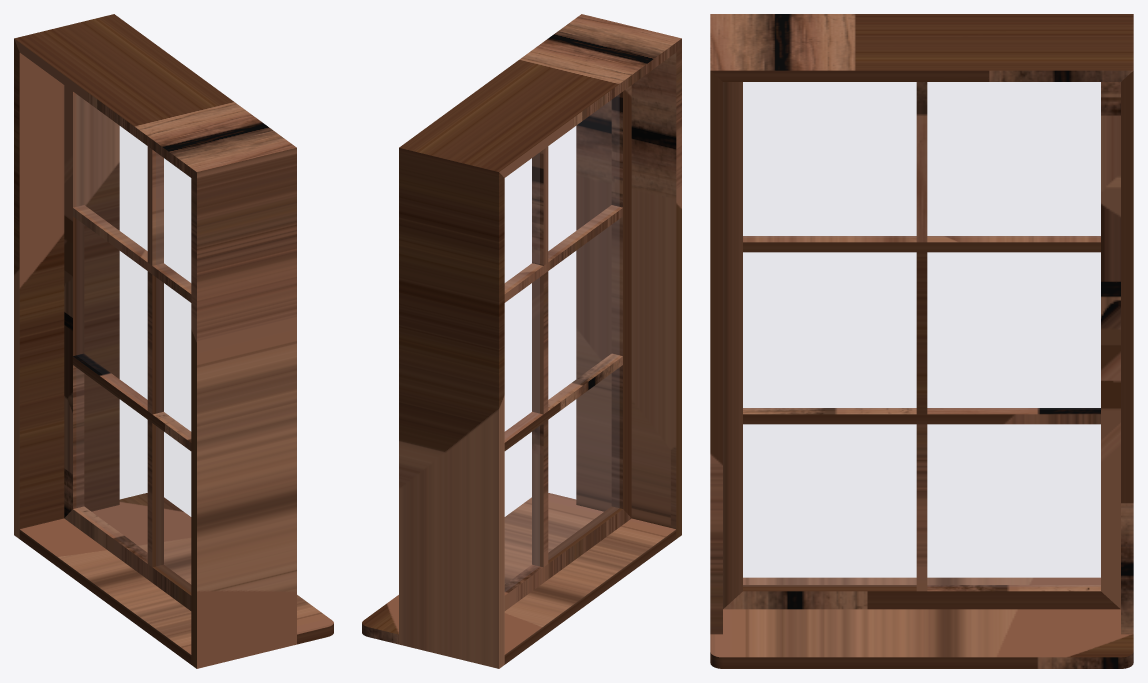
File: Window_B.fbx
3 renders of one model, left to right at view 1: azimuth 30°, elevation 25°; view 2: azimuth 150°, elevation 25°; view 3: azimuth 270°, elevation 25°, orthographic. The views are drawn at different scales.
Visible parts, largest first — view 1: Window_B; view 2: Window_B; view 3: Window_B.
Part boxes in pixels (x1,y1,x2,y2): Window_B: [14, 14, 333, 668]; Window_B: [362, 14, 681, 668]; Window_B: [710, 14, 1133, 668].
Bounding box in the file's own units: 0.4462 × 1 × 1.5.
2 materials, 1 textured.
